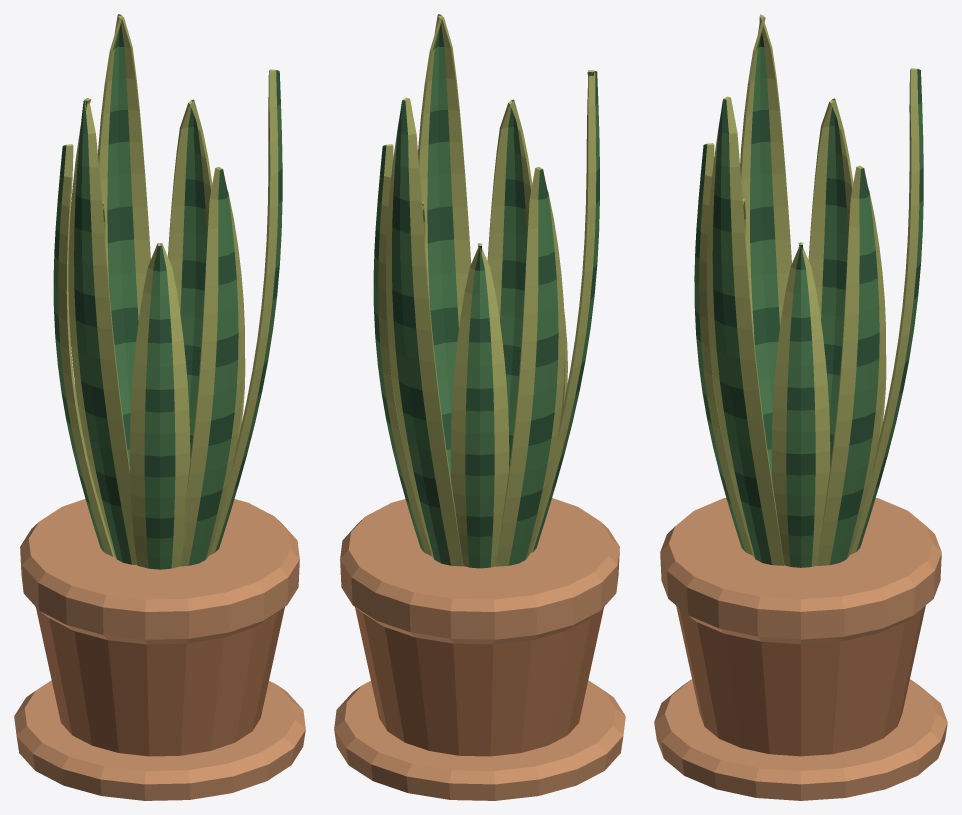
Rendered from SnakePlant.fbx.
3 views of the same model, side by side, from view 1: azimuth 30°, elevation 25°; view 2: azimuth 150°, elevation 25°; view 3: azimuth 270°, elevation 25° (orthographic).
Parts seen in each view (by area): view 1: SnakePlant; view 2: SnakePlant; view 3: SnakePlant.
Part boxes in pixels (left/top/right/bottom): SnakePlant: left=14, top=14, right=305, bottom=800; SnakePlant: left=334, top=14, right=625, bottom=800; SnakePlant: left=654, top=14, right=947, bottom=800.
Size of the model in its own units: 0.451 by 1.16 by 0.451.
